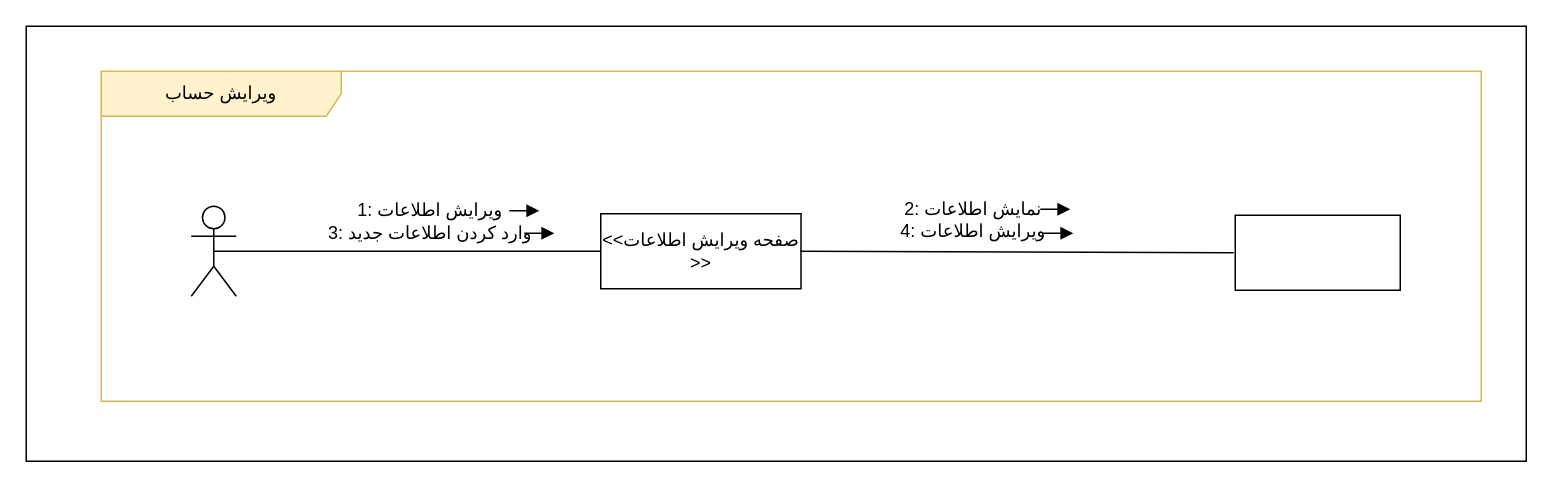
This 1553x488 diagram has some shape labels left out. Here are the shapes that lost their labels. From the top down, the centre of each, then its label:
At pixel 213 250: "کاربر - پشتیبان تلفنی - فروشنده".
At pixel 1317 252: ":شخص".
